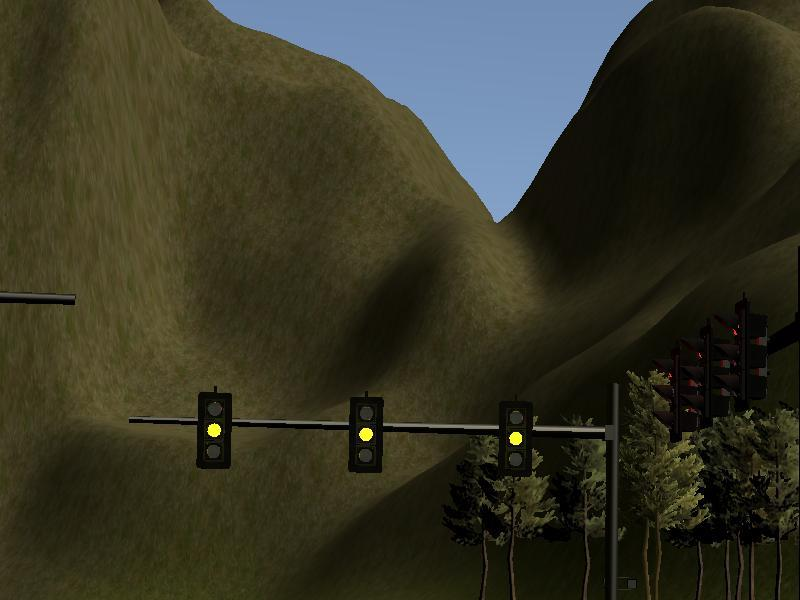Yellow: (197, 392, 232, 469), (349, 397, 384, 473), (498, 401, 533, 477)
